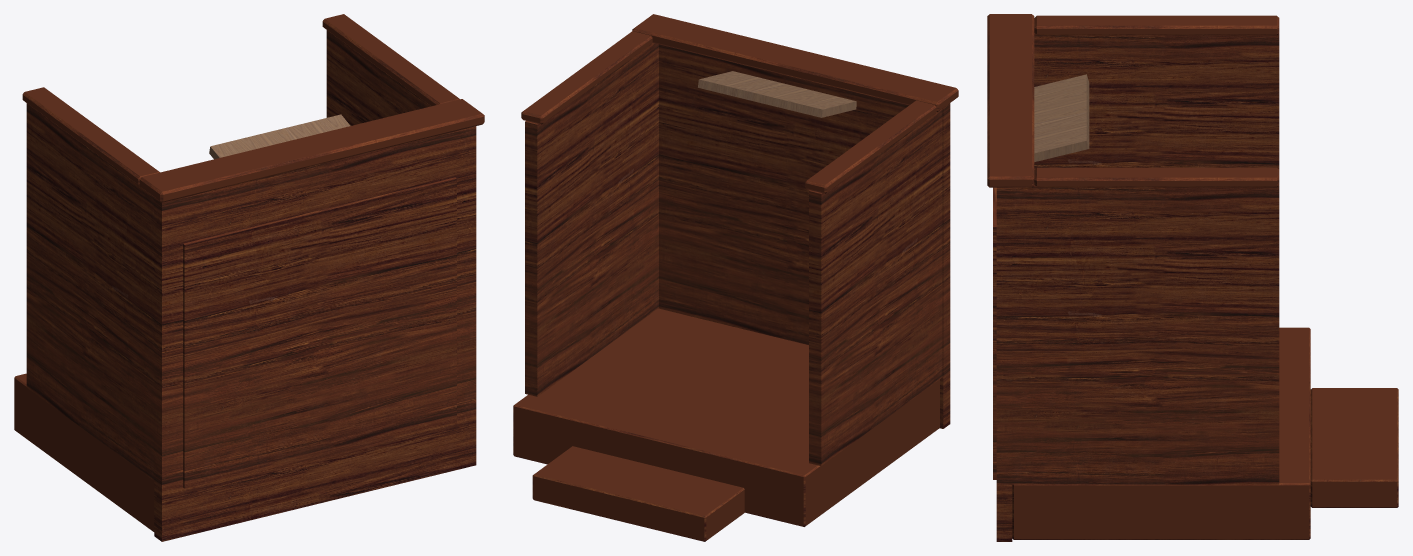
Rendered from witness_stand.glb.
The picture shows the model from 3 angles, left to right: view 1: azimuth 30°, elevation 25°; view 2: azimuth 150°, elevation 25°; view 3: azimuth 270°, elevation 25°; orthographic projection. The views are drawn at different scales.
Parts seen in each view (by area): view 1: witness_stand; view 2: witness_stand; view 3: witness_stand.
Boxes of the visible parts, x1,y1,x2,y2 form: witness_stand: (14,14,484,541); witness_stand: (513,14,958,541); witness_stand: (987,14,1398,541).
Size of the model in its own units: 1.24 by 1.29 by 1.31.
Materials: 2 (2 with a texture image).
